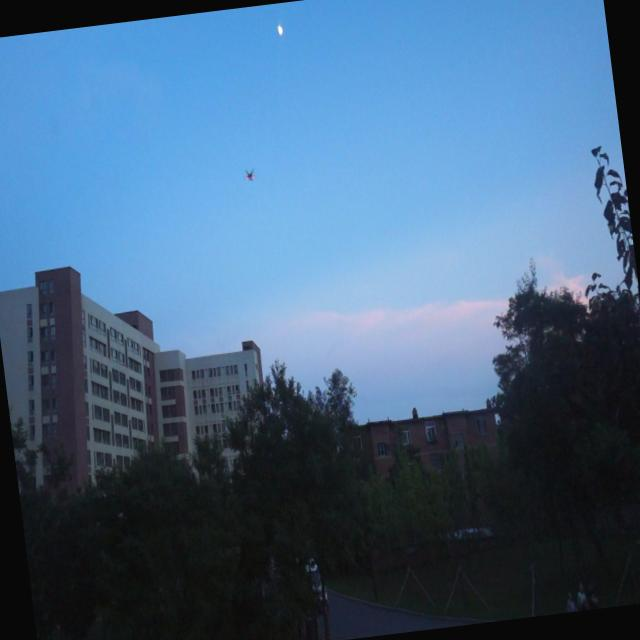drone: (240, 162, 256, 185)
